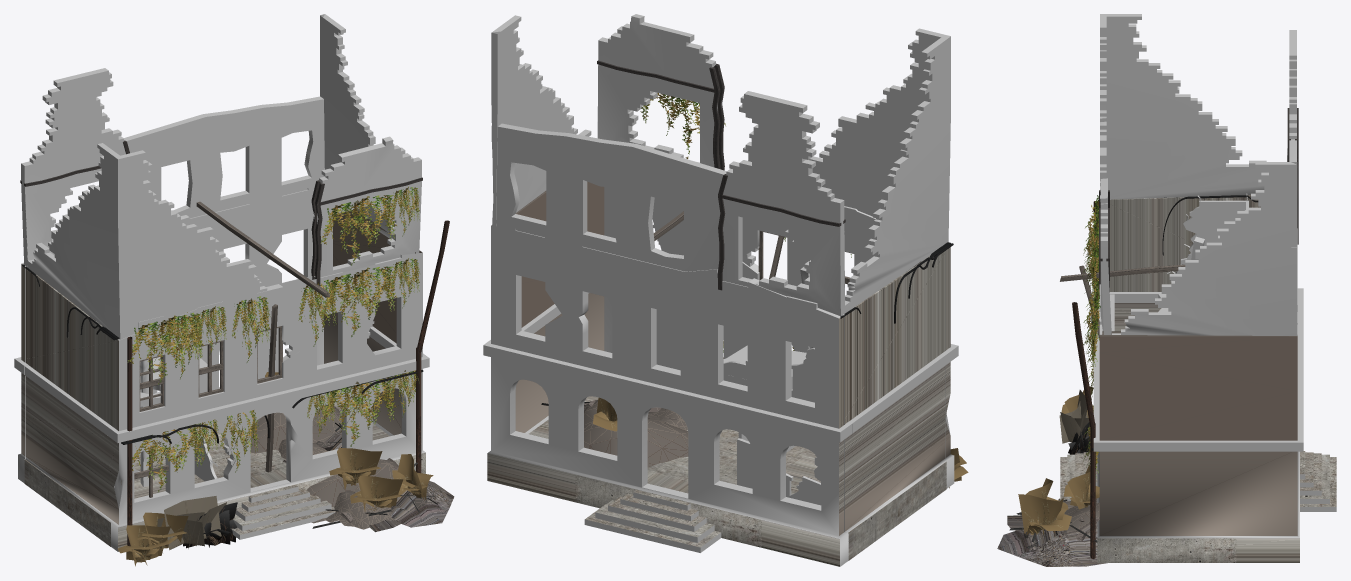
The model's file is house yellow 1 LOD0.fbx.
3 renders of one model, left to right at view 1: azimuth 30°, elevation 25°; view 2: azimuth 150°, elevation 25°; view 3: azimuth 270°, elevation 25°, orthographic. The views are drawn at different scales.
Parts seen in each view (by area): view 1: polymsh75; view 2: polymsh75; view 3: polymsh75.
Boxes of the visible parts, bbox=[...] form: polymsh75: bbox=[14, 14, 454, 566]; polymsh75: bbox=[483, 14, 968, 566]; polymsh75: bbox=[997, 14, 1336, 566].
Bounding box in the file's own units: 9.64 × 11.29 × 8.58.
